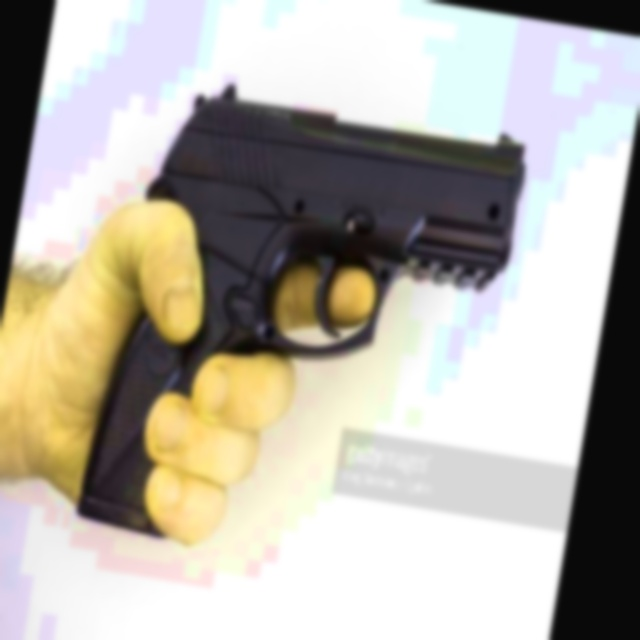gun: (65, 64, 537, 593)
